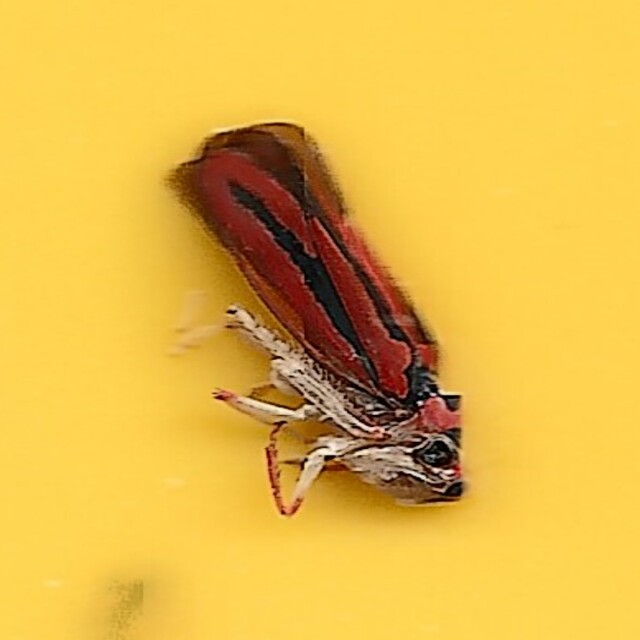Hemiptera: (165, 122, 475, 518)
